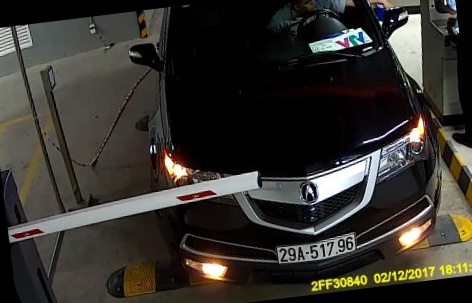plate: (264, 227, 362, 264)
